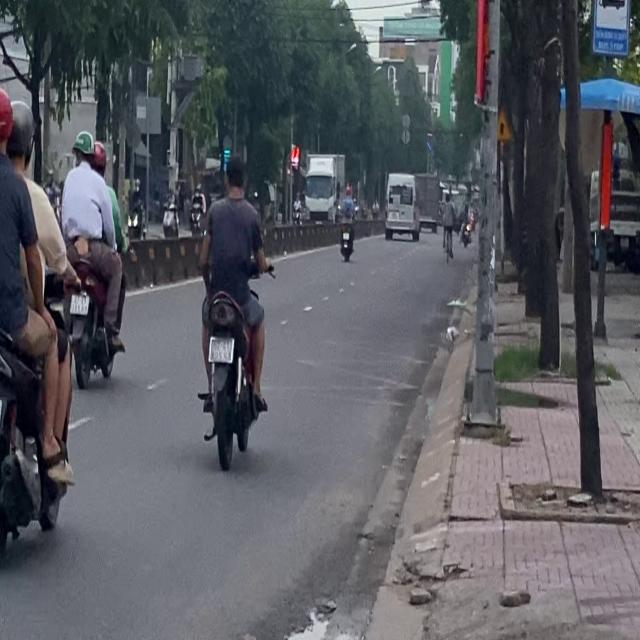helmet: (7, 99, 35, 172), (0, 85, 14, 155), (72, 128, 95, 164), (92, 140, 107, 174)
licenseplate: (0, 84, 79, 568), (193, 150, 270, 467), (57, 128, 127, 388)
motorcyclist: (223, 153, 246, 196)
nohelmet: (209, 335, 232, 361), (69, 293, 88, 313)
